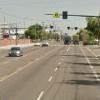Traffic light: (46, 23, 81, 35)
